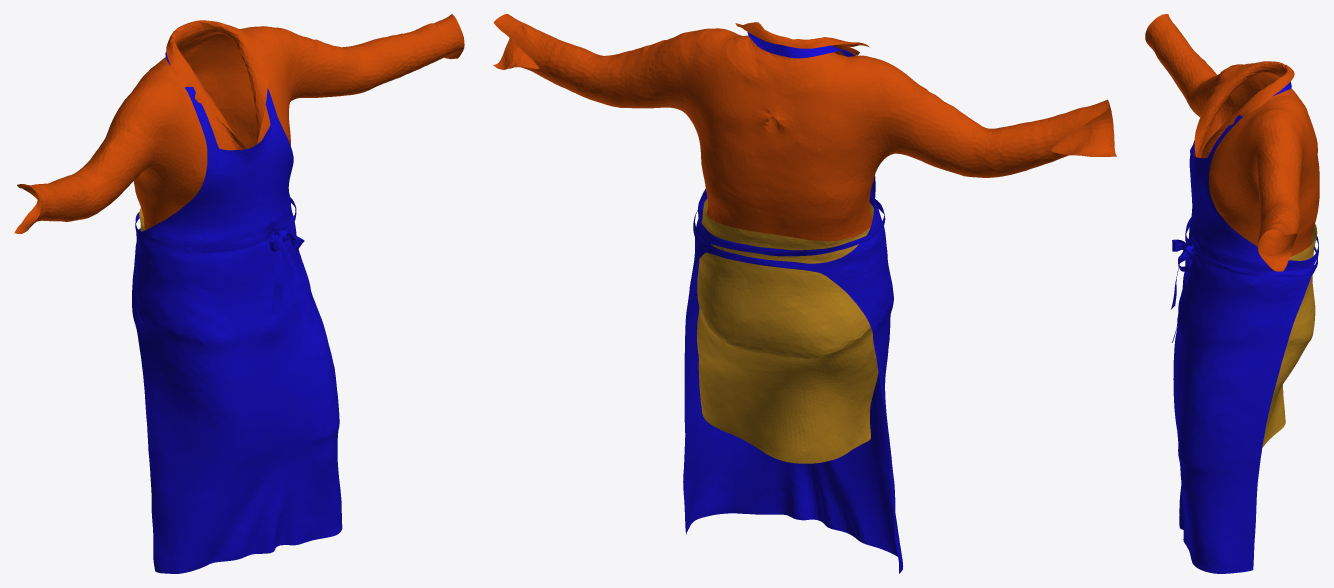
Rendered from ori_beatrice_019.obj.
3 renders of one model, left to right at view 1: azimuth 30°, elevation 25°; view 2: azimuth 150°, elevation 25°; view 3: azimuth 270°, elevation 25°, orthographic. The views are drawn at different scales.
Parts seen in each view (by area): view 1: beatrice_019.002; view 2: beatrice_019.002; view 3: beatrice_019.002.
Boxes of the visible parts, x1,y1,x2,y2 form: beatrice_019.002: (14, 14, 464, 573); beatrice_019.002: (493, 14, 1116, 573); beatrice_019.002: (1145, 14, 1319, 573).
Size of the model in its own units: 1.41 by 1.34 by 0.4634.
